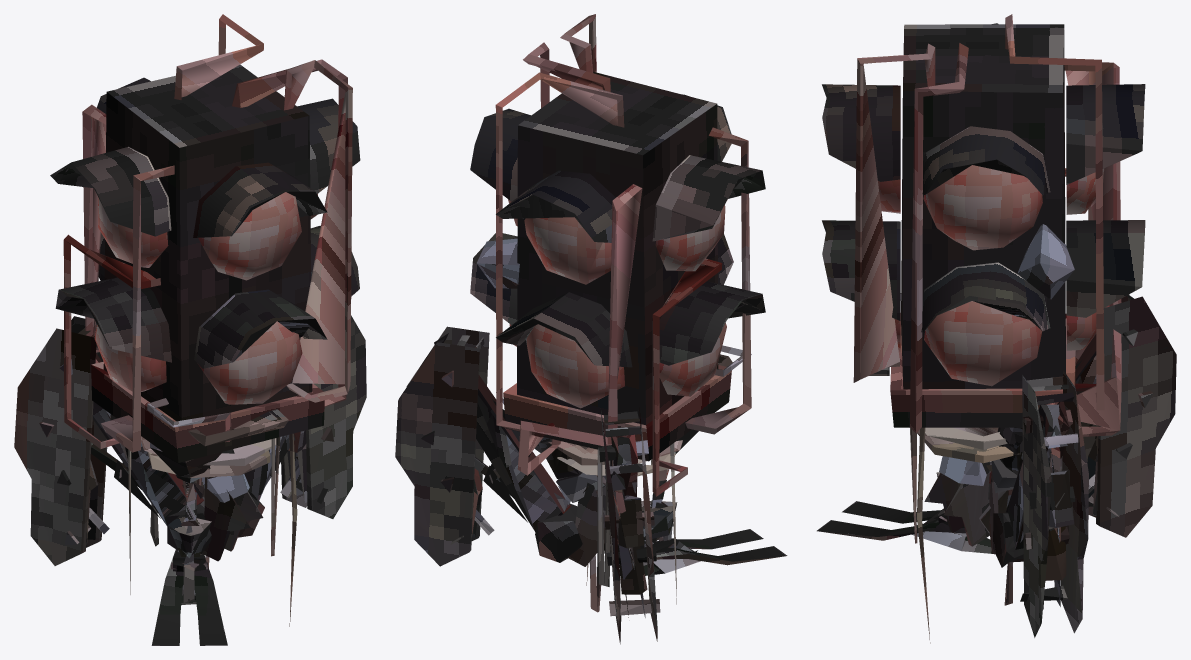
The model's file is item_squishy_redgreen.glb.
The picture shows the model from 3 angles, left to right: view 1: azimuth 30°, elevation 25°; view 2: azimuth 150°, elevation 25°; view 3: azimuth 270°, elevation 25°; orthographic projection. The views are drawn at different scales.
Visible parts, largest first — view 1: toy_redgreen; view 2: toy_redgreen; view 3: toy_redgreen.
Boxes of the visible parts, x1=… form: toy_redgreen: x1=14, y1=14, x2=366, y2=645; toy_redgreen: x1=395, y1=14, x2=787, y2=644; toy_redgreen: x1=817, y1=14, x2=1176, y2=643.
Bounding box in the file's own units: 0.1318 × 0.2225 × 0.1201.
1 material, 1 textured.
